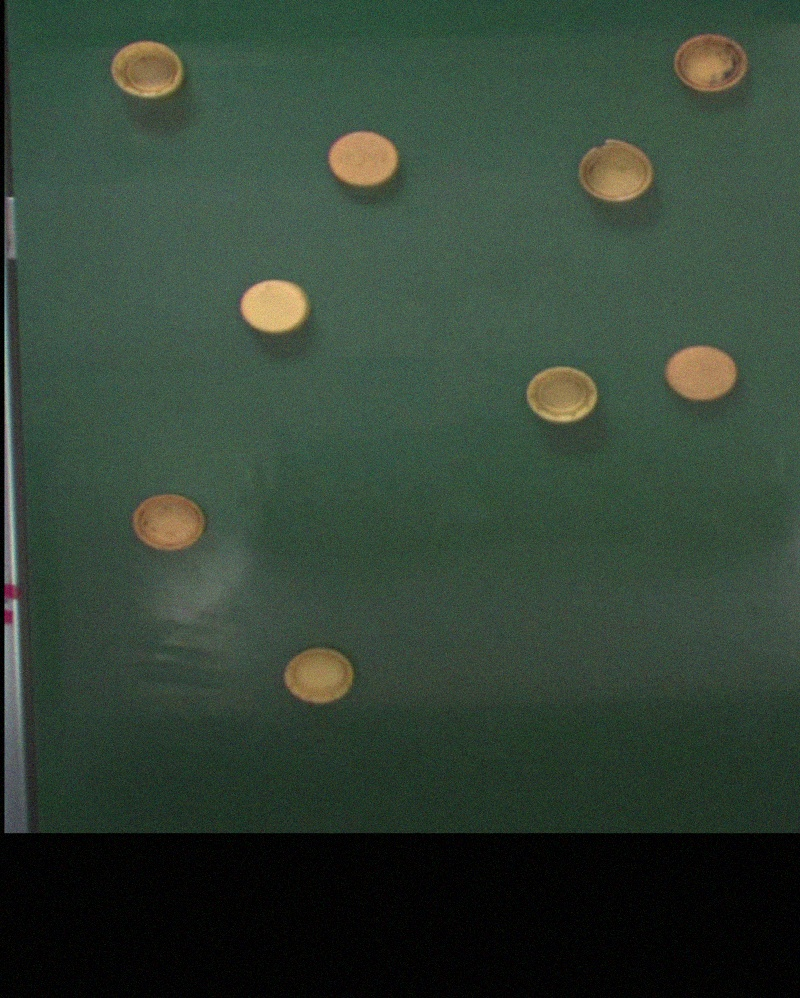Others: (578, 138, 652, 202), (673, 34, 747, 93), (328, 129, 402, 188), (110, 41, 185, 99), (281, 648, 355, 705), (131, 494, 205, 551), (526, 366, 598, 424), (665, 345, 737, 401), (239, 278, 310, 332)
